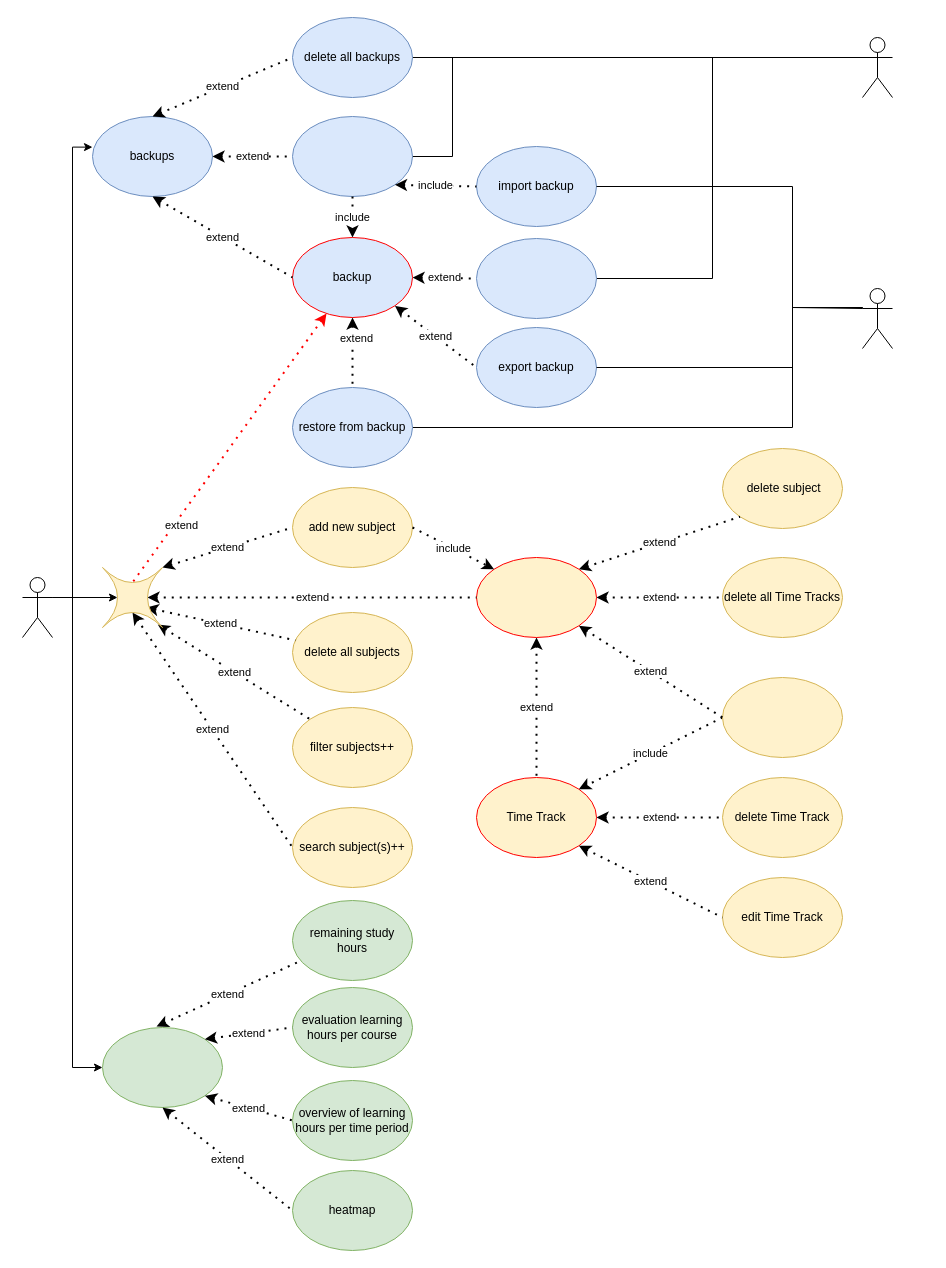
Some shapes in this 946 by 1268 pixel diagram are drawn without their labels. The centre of each missing label's shape, as x and y in pixels:
add new time track: point (782, 717)
Backup server: point (877, 67)
create backup: point (352, 156)
delete backup: point (536, 278)
external backup file: point (877, 318)
statistic: point (162, 1067)
Student: point (37, 607)
subject: point (536, 597)
subjects: point (132, 597)
